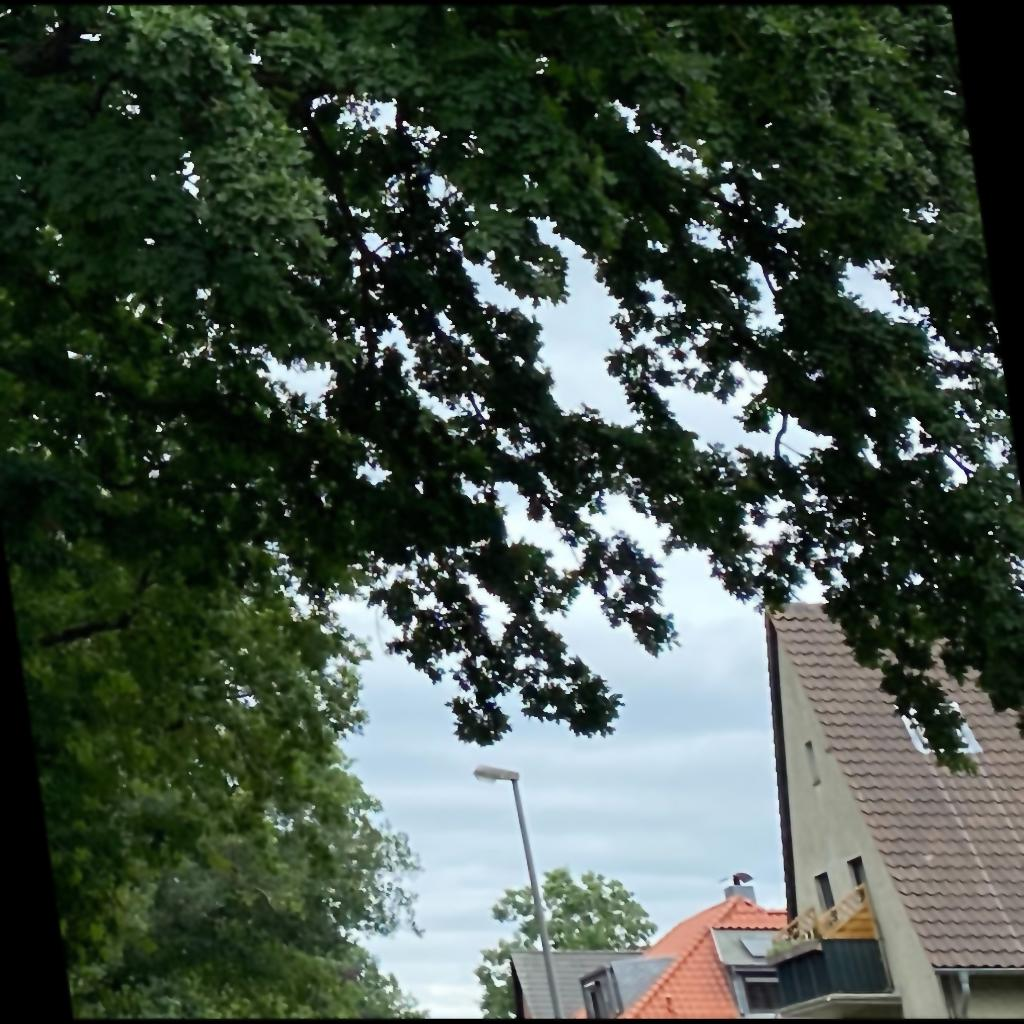tree: (1, 5, 1023, 777), (27, 567, 430, 1020), (474, 866, 658, 1018)
